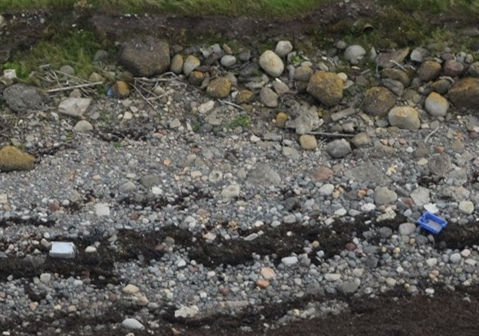cuboid: (412, 206, 452, 241), (44, 231, 84, 266)
